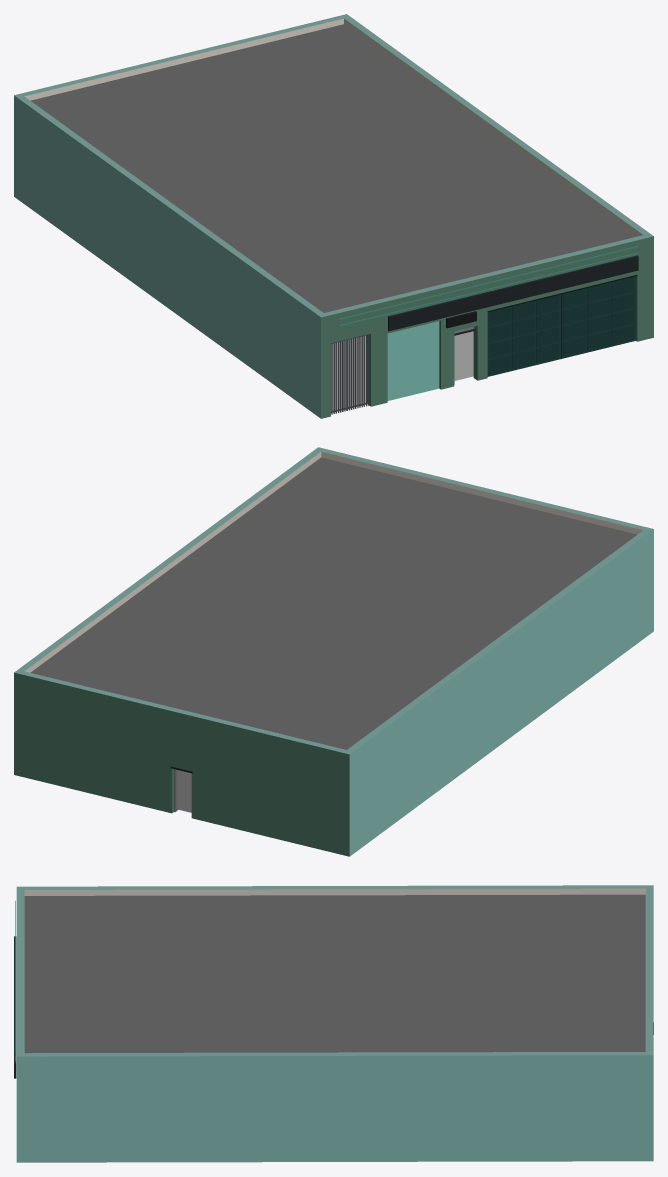
File: exterior.glb
3 views of the same model, one above another, from view 1: azimuth 30°, elevation 25°; view 2: azimuth 150°, elevation 25°; view 3: azimuth 270°, elevation 25° (orthographic). The views are drawn at different scales.
Parts seen in each view (by area): view 1: roof, shell, storefront, front-dressing, shadow-proxy, hand-ornament; view 2: roof, shell, shadow-proxy; view 3: roof, shell, front-dressing.
Part boxes in pixels (x1=…): roof: x1=31, y1=24, x2=637, y2=312; shell: x1=14, y1=14, x2=653, y2=418; storefront: x1=331, y1=275, x2=637, y2=414; front-dressing: x1=388, y1=255, x2=638, y2=331; shadow-proxy: x1=331, y1=327, x2=473, y2=410; hand-ornament: x1=338, y1=246, x2=637, y2=326; roof: x1=30, y1=457, x2=637, y2=749; shell: x1=14, y1=447, x2=653, y2=856; shadow-proxy: x1=177, y1=770, x2=191, y2=812; roof: x1=24, y1=894, x2=645, y2=1053; shell: x1=16, y1=885, x2=653, y2=1162; front-dressing: x1=14, y1=936, x2=16, y2=1078.
Size of the model in its own units: 17.27 by 4.99 by 27.27.
